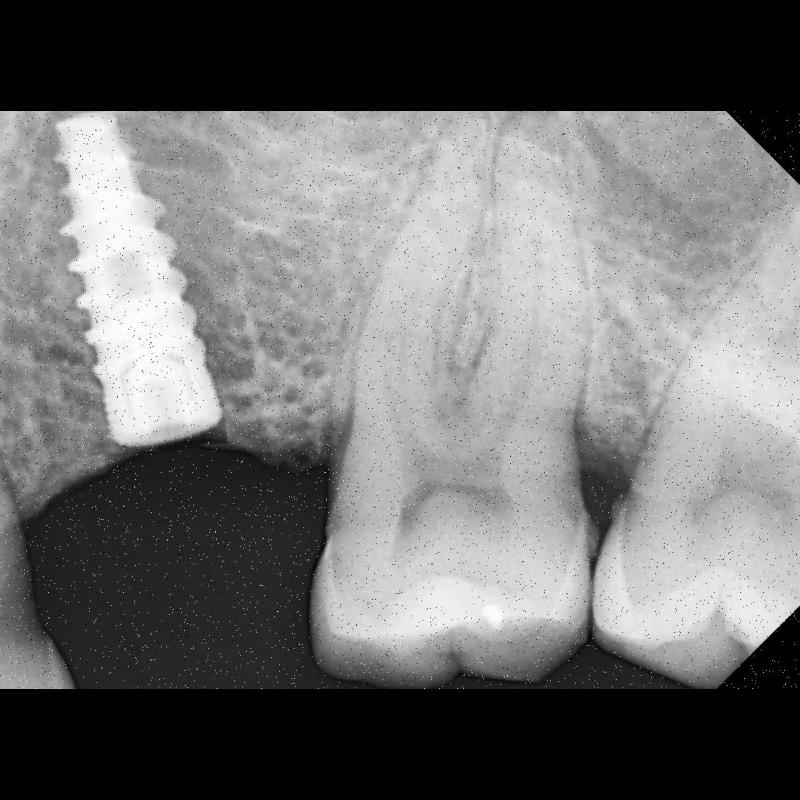NORIS: (55, 112, 221, 454)
